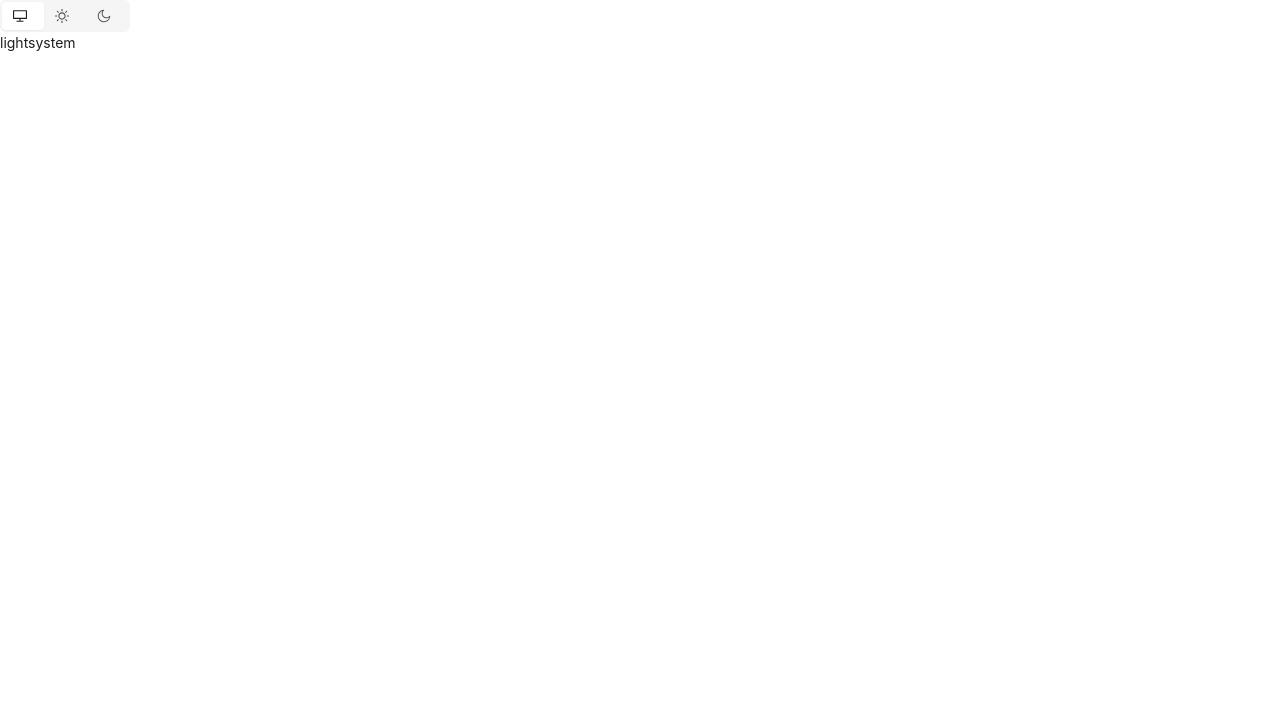
it: Farbschema › schaltet ueber den Umschalter um und speichert unter dem Schluessel colorMode
Click the radio button named "Dunkel".
click(107, 16)  # box [86,2,128,30]
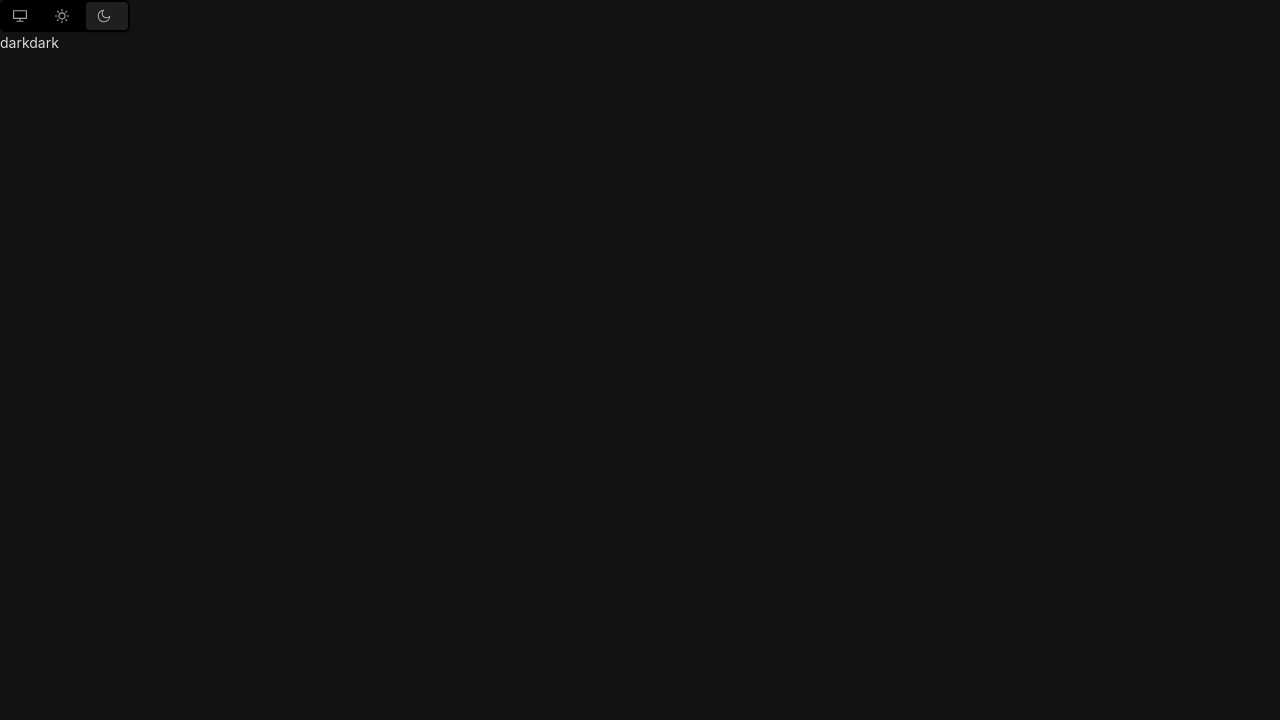
Expected: the text with test id "preference" reads "dark", [29,34,59,51]
Expected: the text with test id "mode" reads "dark", [0,34,29,51]
Click the radio button named "Hell".
click(65, 16)  # box [44,2,86,30]
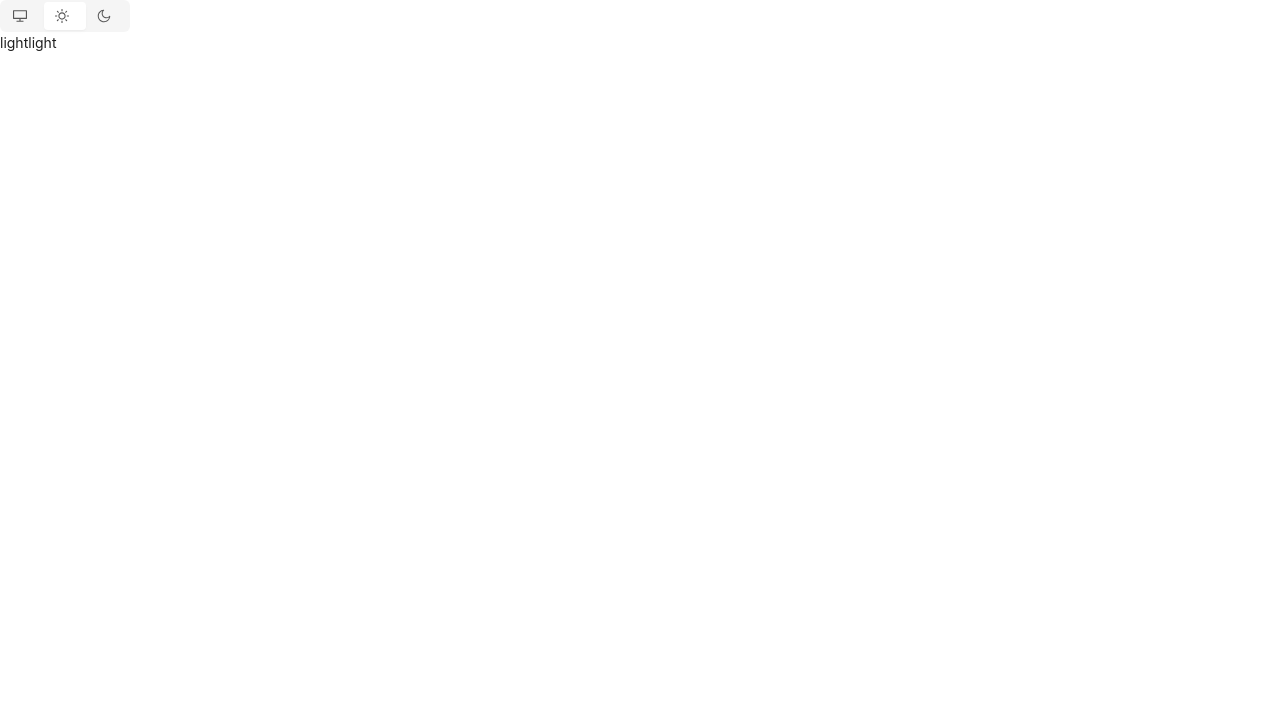
Expected: the text with test id "mode" reads "light", [0,34,28,51]
